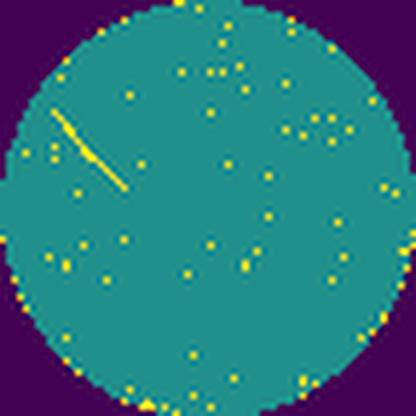Scratch: (48, 103, 134, 198)
